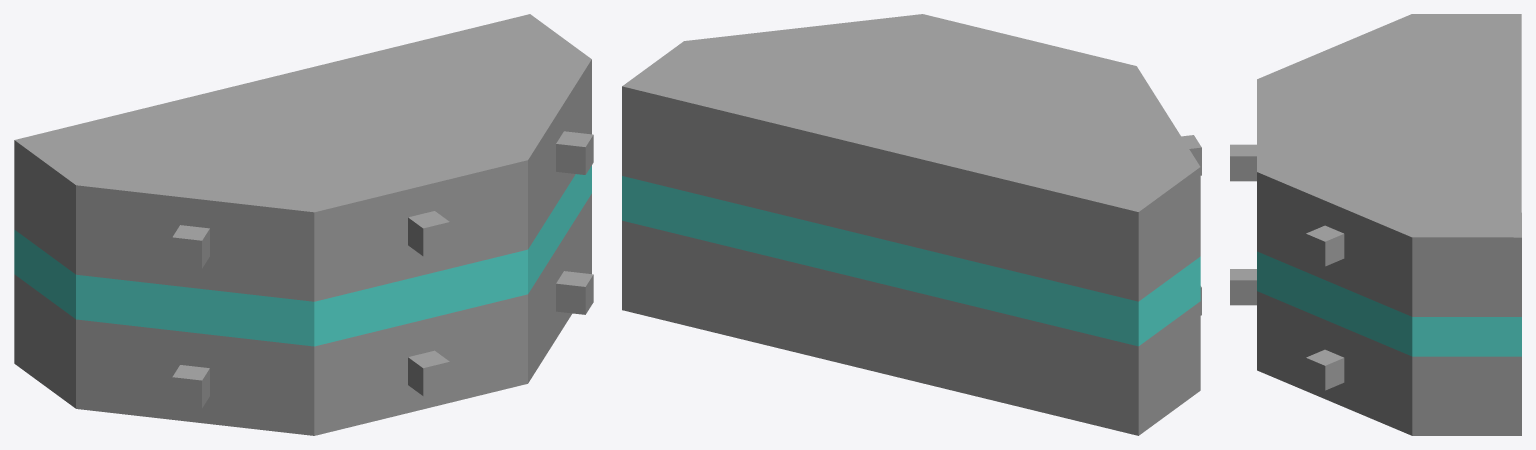
The model's file is ModularWalkways_8SidePlatformHalf.fbx.
3 views of the same model, side by side, from view 1: azimuth 30°, elevation 25°; view 2: azimuth 150°, elevation 25°; view 3: azimuth 270°, elevation 25° (orthographic). The views are drawn at different scales.
Parts seen in each view (by area): view 1: polySurface13; view 2: polySurface13; view 3: polySurface13.
Part boxes in pixels (bbox=[...]): polySurface13: bbox=[14, 14, 593, 435]; polySurface13: bbox=[622, 14, 1201, 435]; polySurface13: bbox=[1230, 14, 1521, 435].
Bounding box in the file's own units: 1932 × 800 × 1066.
